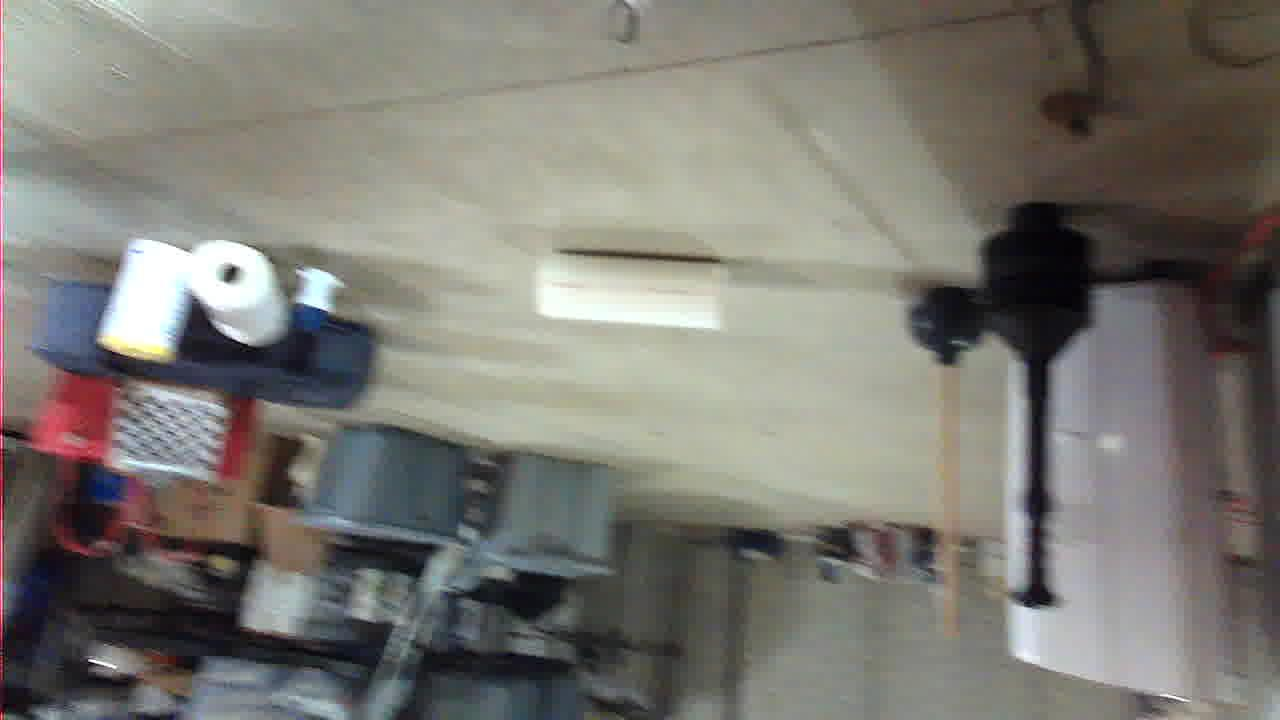coral: (552, 390, 744, 465)
